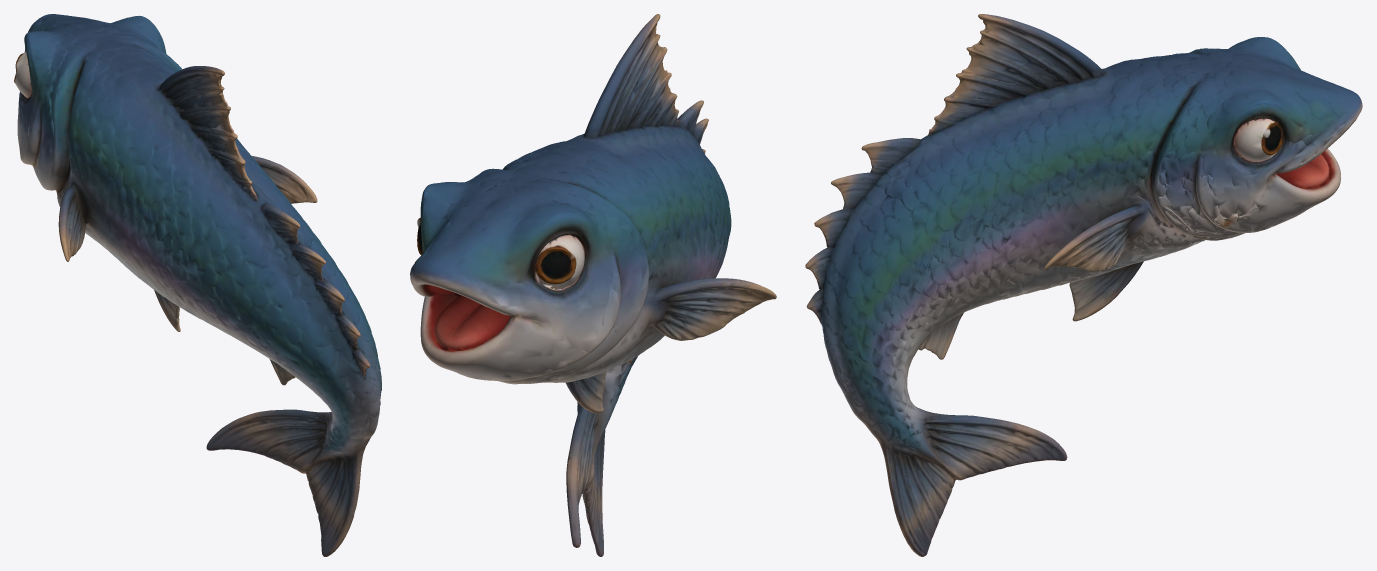
The model's file is prop-fish.glb.
The picture shows the model from 3 angles, left to right: view 1: azimuth 30°, elevation 25°; view 2: azimuth 150°, elevation 25°; view 3: azimuth 270°, elevation 25°; orthographic projection. The views are drawn at different scales.
Parts seen in each view (by area): view 1: tripo_node_0e9af2c8-380e-4edc-98a4-56720daf98c9; view 2: tripo_node_0e9af2c8-380e-4edc-98a4-56720daf98c9; view 3: tripo_node_0e9af2c8-380e-4edc-98a4-56720daf98c9.
Part boxes in pixels (x1,y1,x2,y2): tripo_node_0e9af2c8-380e-4edc-98a4-56720daf98c9: (14,14,381,556); tripo_node_0e9af2c8-380e-4edc-98a4-56720daf98c9: (410,14,776,556); tripo_node_0e9af2c8-380e-4edc-98a4-56720daf98c9: (805,14,1362,556).
Size of the model in its own units: 0.5351 by 0.9779 by 0.9794.
Materials: 1 (1 with a texture image).
